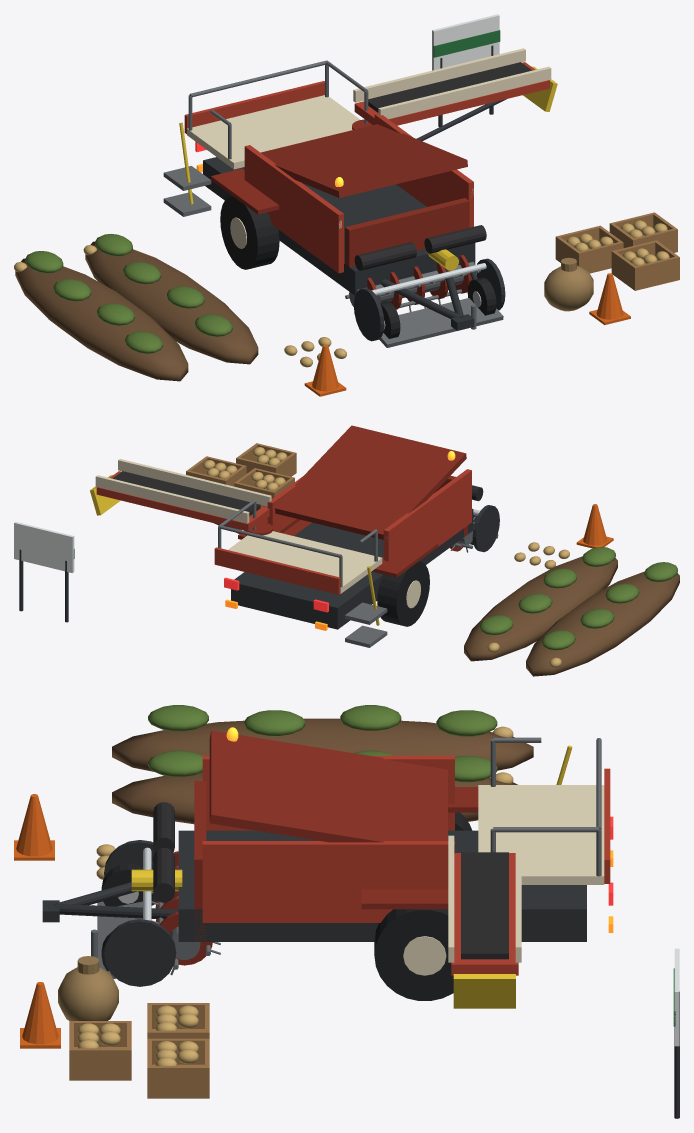
Rendered from potato_harvester.glb.
3 renders of one model, top to bottom at view 1: azimuth 30°, elevation 25°; view 2: azimuth 150°, elevation 25°; view 3: azimuth 270°, elevation 25°, orthographic. The views are drawn at different scales.
Parts seen in each view (by area): view 1: HarvesterBody, FieldProps, DischargeArm, PickupReel; view 2: HarvesterBody, FieldProps, DischargeArm; view 3: HarvesterBody, FieldProps, DischargeArm, PickupReel.
Boxes of the visible parts, x1,y1,x2,y2 form: HarvesterBody: (163, 60, 505, 347); FieldProps: (14, 14, 679, 396); DischargeArm: (352, 48, 557, 141); PickupReel: (345, 255, 480, 311); HarvesterBody: (214, 425, 499, 647); FieldProps: (14, 443, 679, 676); DischargeArm: (90, 459, 272, 535); HarvesterBody: (42, 727, 613, 1000); FieldProps: (14, 705, 679, 1118); DischargeArm: (448, 835, 521, 1008); PickupReel: (151, 851, 220, 975).
Size of the model in its own units: 7.28 by 1.67 by 5.54.
